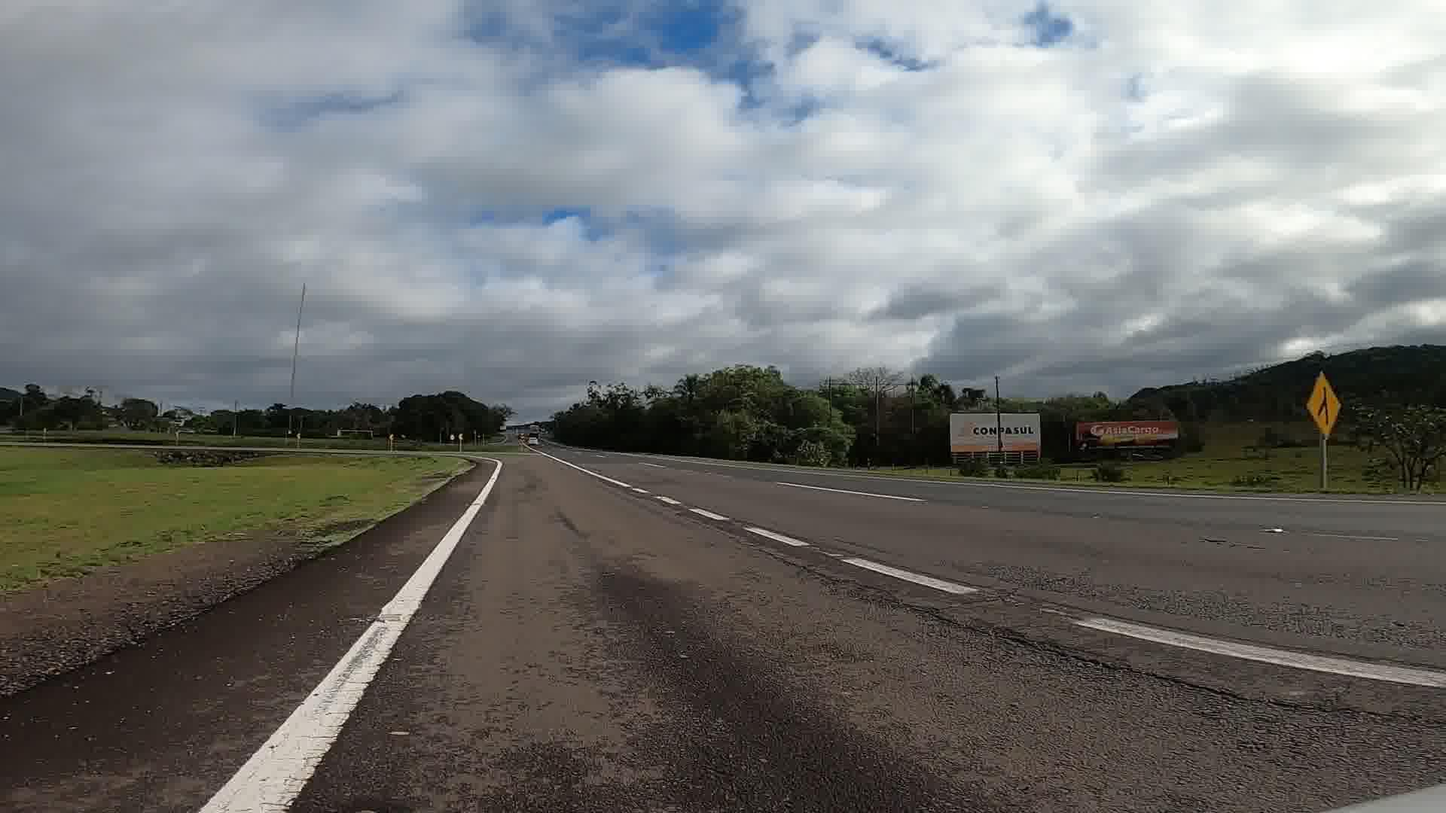A-13a: (1304, 375, 1343, 439)
